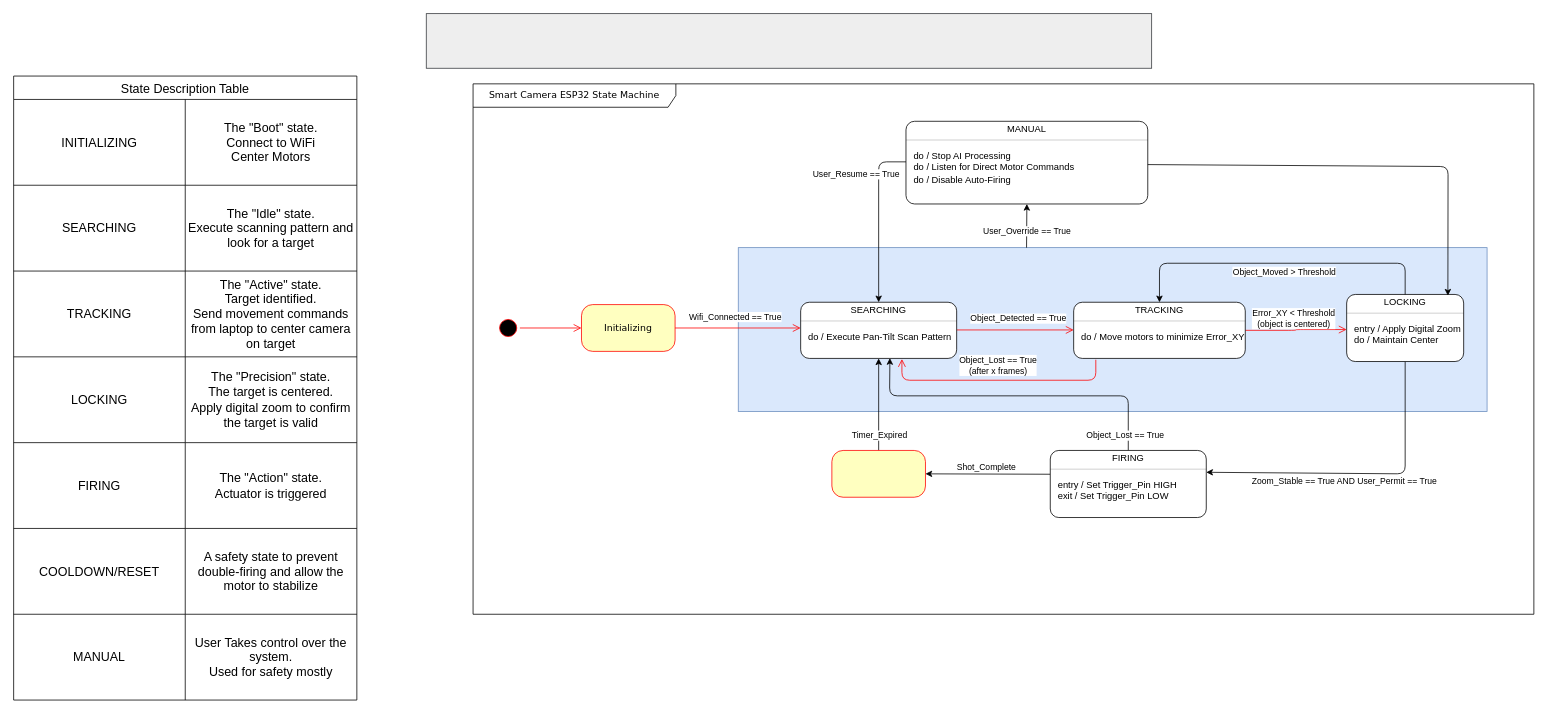
Image size: 1548x714. Some labels were removed from this diagram. Each missing label, with the centre of its shape:
Cooldown: [878,473]
Smart Camera State Machine Diagram: [788,40]
